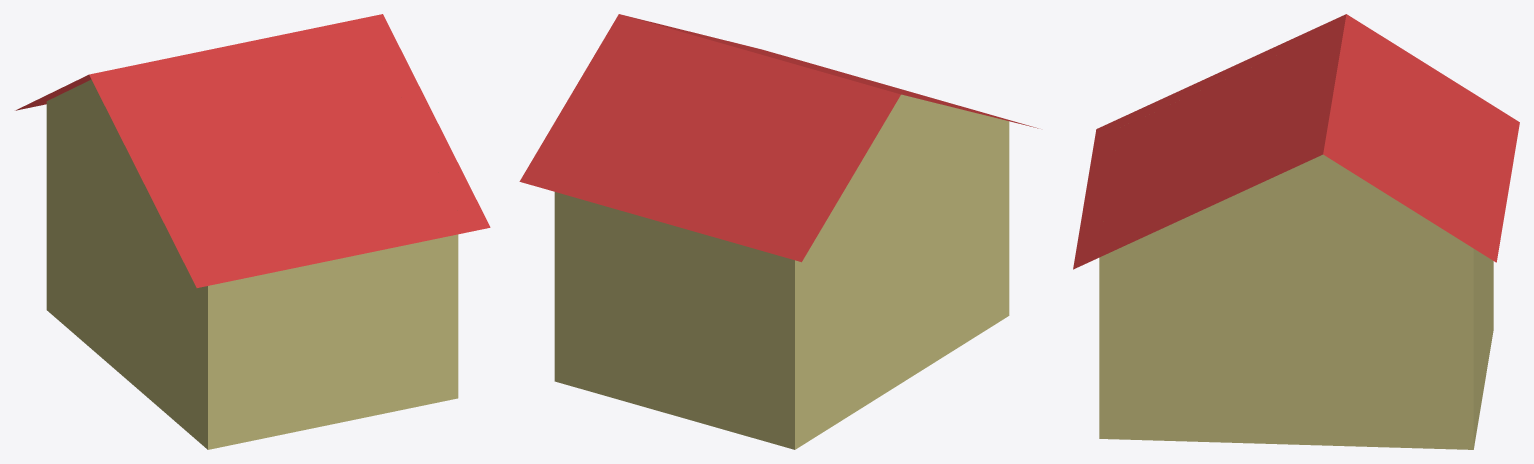
3 views of the same model, side by side, from view 1: azimuth 30°, elevation 25°; view 2: azimuth 150°, elevation 25°; view 3: azimuth 270°, elevation 25° (orthographic). The views are drawn at different scales.
Size of the model in its own units: 10.99 by 13.57 by 10.1.
